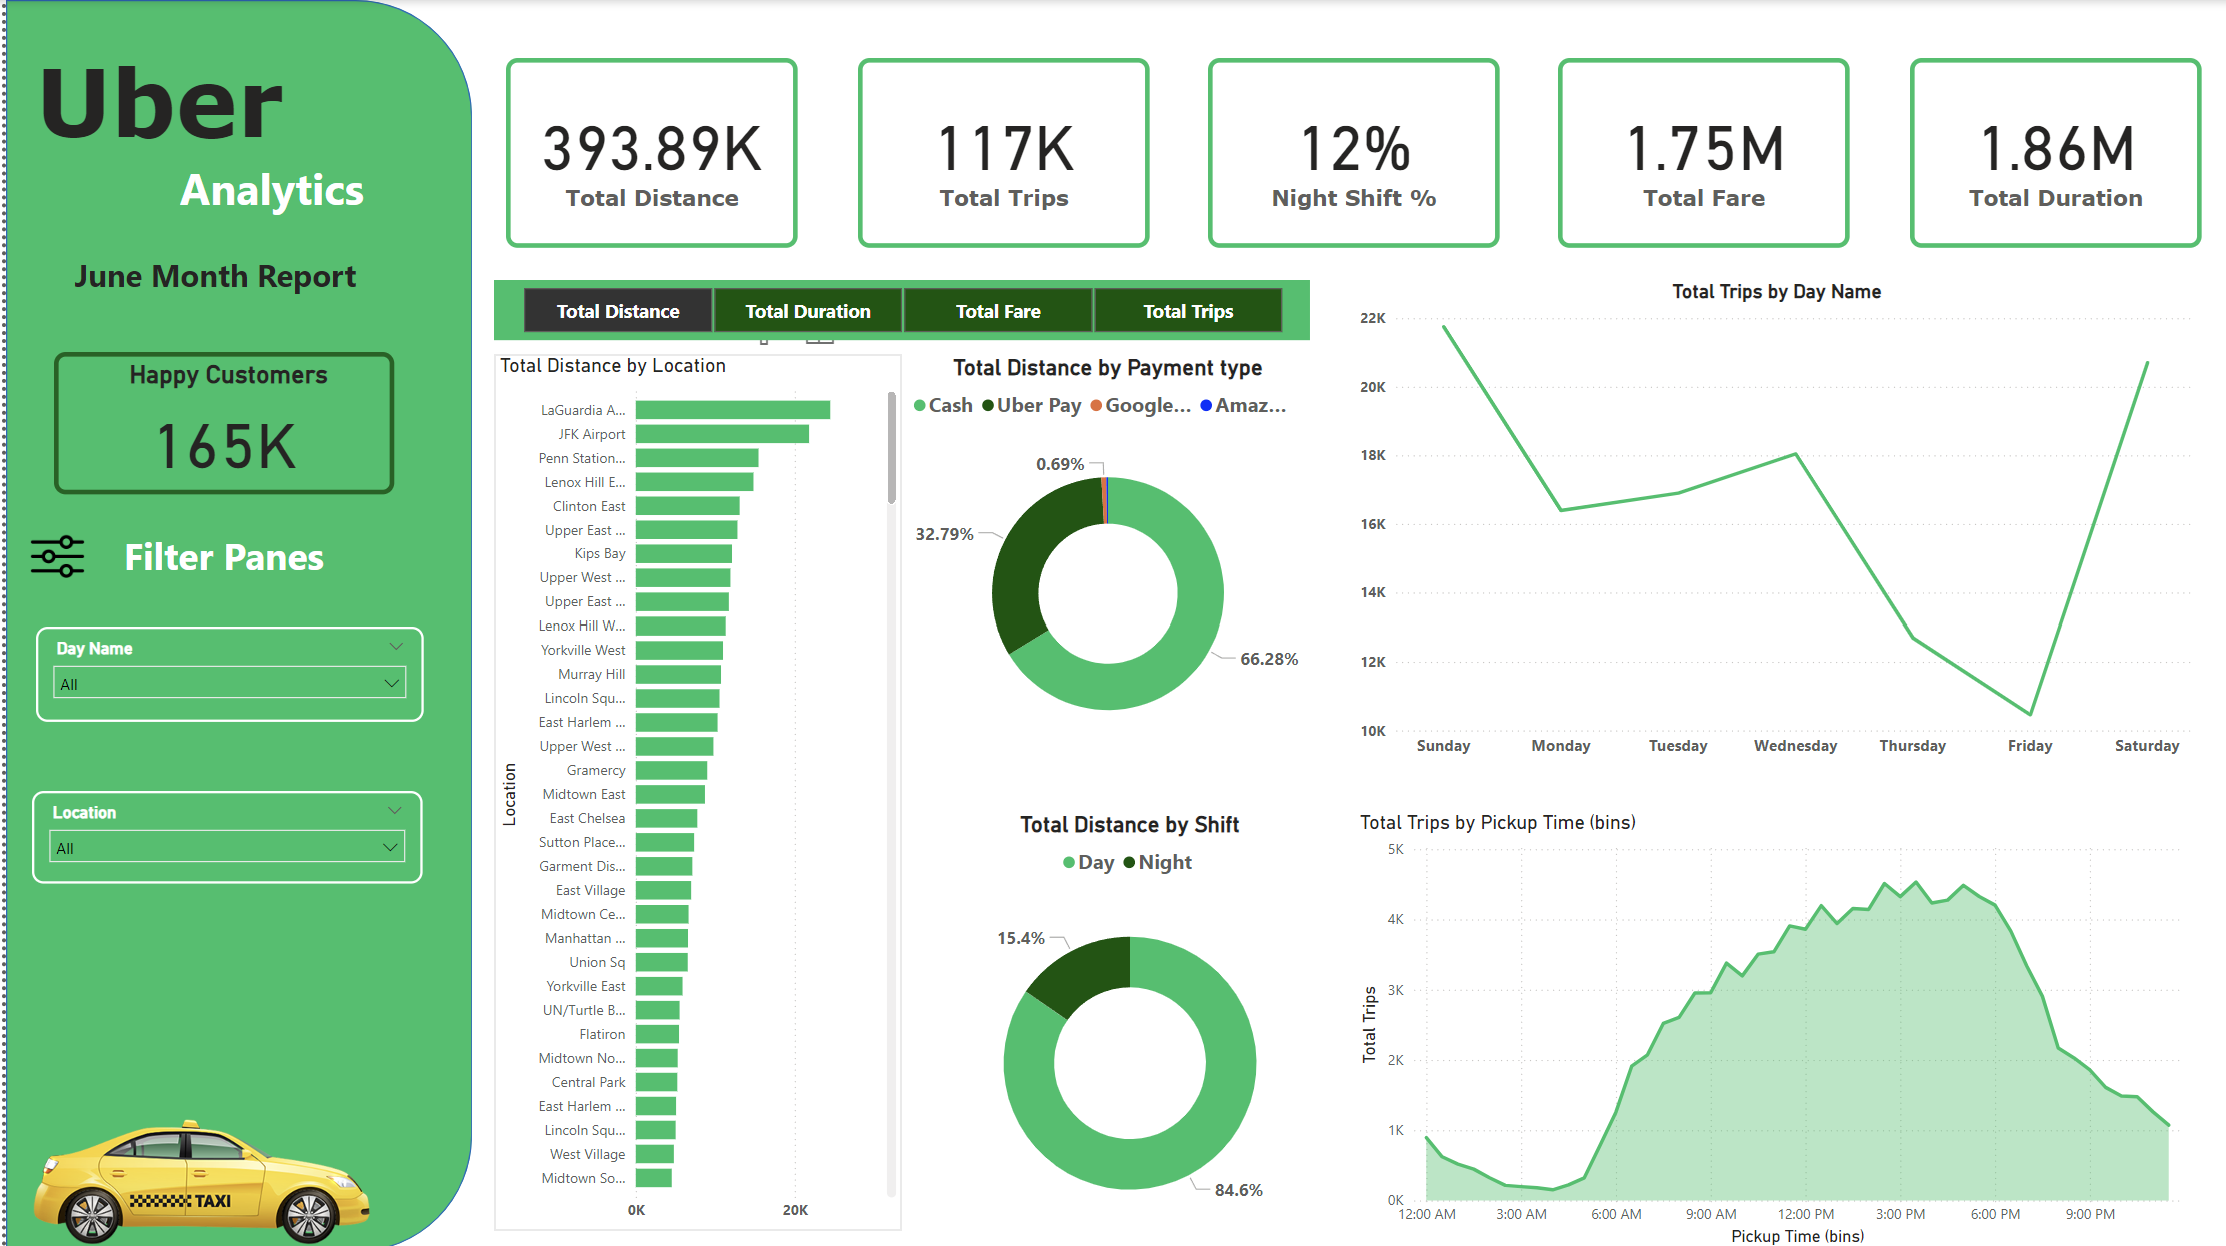

The dashboard page shown, as its layout file describes it:
{"tool":"powerbi","page":{"name":"June Month report","canvas":[1920,1080],"ordinal":0},"visuals":[{"type":"shape","box":[0,0,402.7,1081],"z":0},{"type":"textbox","box":[21,32.5,246.7,114.7],"z":1000},{"type":"textbox","box":[145.3,132,189.3,65],"z":2000},{"type":"image","box":[0,451.9,88.6,56.2],"z":3000},{"type":"textbox","box":[97.3,451.9,205.4,56.2],"z":4000},{"type":"slicer","fields":{"Values":["DateTable.Day Name"]},"box":[25.9,540.5,335.1,82.2],"z":5000},{"type":"slicer","fields":{"Values":["Location Table.Location"]},"box":[21.6,683.2,337.3,80],"z":6000},{"type":"card","fields":{"Values":["Trip Details.Total Distance"]},"box":[432.3,49.3,252.2,164.2],"z":7000},{"type":"card","fields":{"Values":["Trip Details.Night Shift %"]},"box":[1038.3,49.3,252.2,164.2],"z":8000},{"type":"card","fields":{"Values":["Trip Details.Total Fare"]},"box":[1341.3,49.3,252.2,164.2],"z":9000},{"type":"card","fields":{"Values":["Trip Details.Total Trips"]},"box":[735.3,49.3,252.2,164.2],"z":10000},{"type":"card","fields":{"Values":["Trip Details.Total Duration"]},"box":[1644.3,49.3,252.2,164.2],"z":11000},{"type":"clusteredBarChart","fields":{"Y":["Trip Details.Total Distance"],"Category":["Location Table.Location"]},"box":[421.6,305.9,352.5,756.9],"z":12000},{"type":"slicer","fields":{"Values":["Toggle.Toggle"]},"box":[421.6,241.9,705,51.8],"z":13000},{"type":"donutChart","fields":{"Y":["Trip Details.Total Distance"],"Category":["Trip Details.Payment type"]},"box":[777.6,305.9,349.1,357.7],"z":14000},{"type":"donutChart","fields":{"Y":["Trip Details.Total Distance"],"Category":["Trip Details.Shift"]},"box":[777.6,699.8,387.1,380.2],"z":15000},{"type":"lineChart","fields":{"Y":["Trip Details.Total Trips"],"Category":["DateTable.Day Name"]},"box":[1165.3,242.4,731.2,420.4],"z":16000},{"type":"areaChart","fields":{"Y":["Trip Details.Total Trips"],"Category":["Trip Details.Pickup Time (bins)"]},"box":[1165,700,731,380],"z":17000},{"type":"image","box":[19.5,949.2,300.5,131.9],"z":18000},{"type":"card","title":"Happy Customers","fields":{"Values":["Sum(Trip Details.passenger_count)"]},"box":[41.1,304.9,294.1,123.2],"z":19000},{"type":"textbox","box":[41.1,214.1,278.9,54.1],"z":20000}]}

Visuals, with their boxes in screenshot pixels (x1, y1, x2, y2), scaled from the page's 1920x1080 canvas onto the 2226x1246 screenshot:
shape: l=0, t=0, r=467, b=1245
textbox: l=24, t=37, r=310, b=170
textbox: l=168, t=152, r=388, b=227
image: l=0, t=521, r=103, b=586
textbox: l=113, t=521, r=351, b=586
slicer - DateTable.Day Name: l=30, t=624, r=419, b=718
slicer - Location Table.Location: l=25, t=788, r=416, b=881
card - Trip Details.Total Distance: l=501, t=57, r=794, b=246
card - Trip Details.Night Shift %: l=1204, t=57, r=1496, b=246
card - Trip Details.Total Fare: l=1555, t=57, r=1847, b=246
card - Trip Details.Total Trips: l=852, t=57, r=1145, b=246
card - Trip Details.Total Duration: l=1906, t=57, r=2199, b=246
clusteredBarChart - Trip Details.Total Distance x Location Table.Location: l=489, t=353, r=897, b=1226
slicer - Toggle.Toggle: l=489, t=279, r=1306, b=339
donutChart - Trip Details.Total Distance x Trip Details.Payment type: l=902, t=353, r=1306, b=766
donutChart - Trip Details.Total Distance x Trip Details.Shift: l=902, t=807, r=1350, b=1245
lineChart - Trip Details.Total Trips x DateTable.Day Name: l=1351, t=280, r=2199, b=765
areaChart - Trip Details.Total Trips x Trip Details.Pickup Time (bins): l=1351, t=808, r=2198, b=1245
image: l=23, t=1095, r=371, b=1245
"Happy Customers" card: l=48, t=352, r=389, b=494
textbox: l=48, t=247, r=371, b=309
